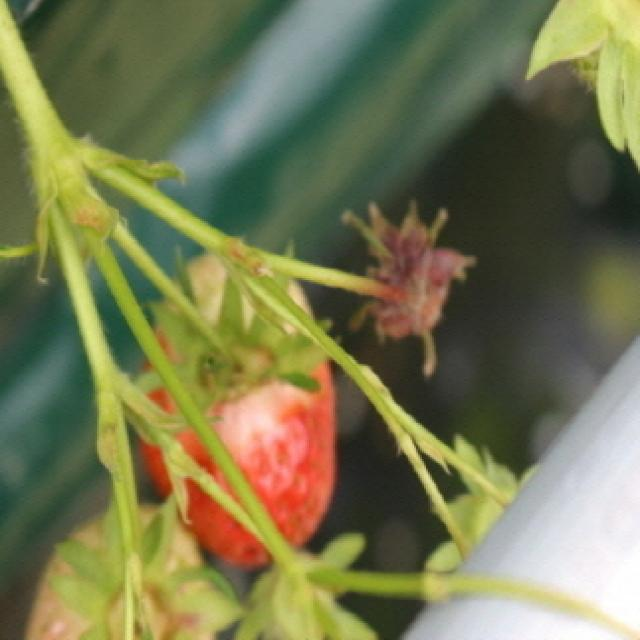Gray Mold: (344, 198, 482, 380)
